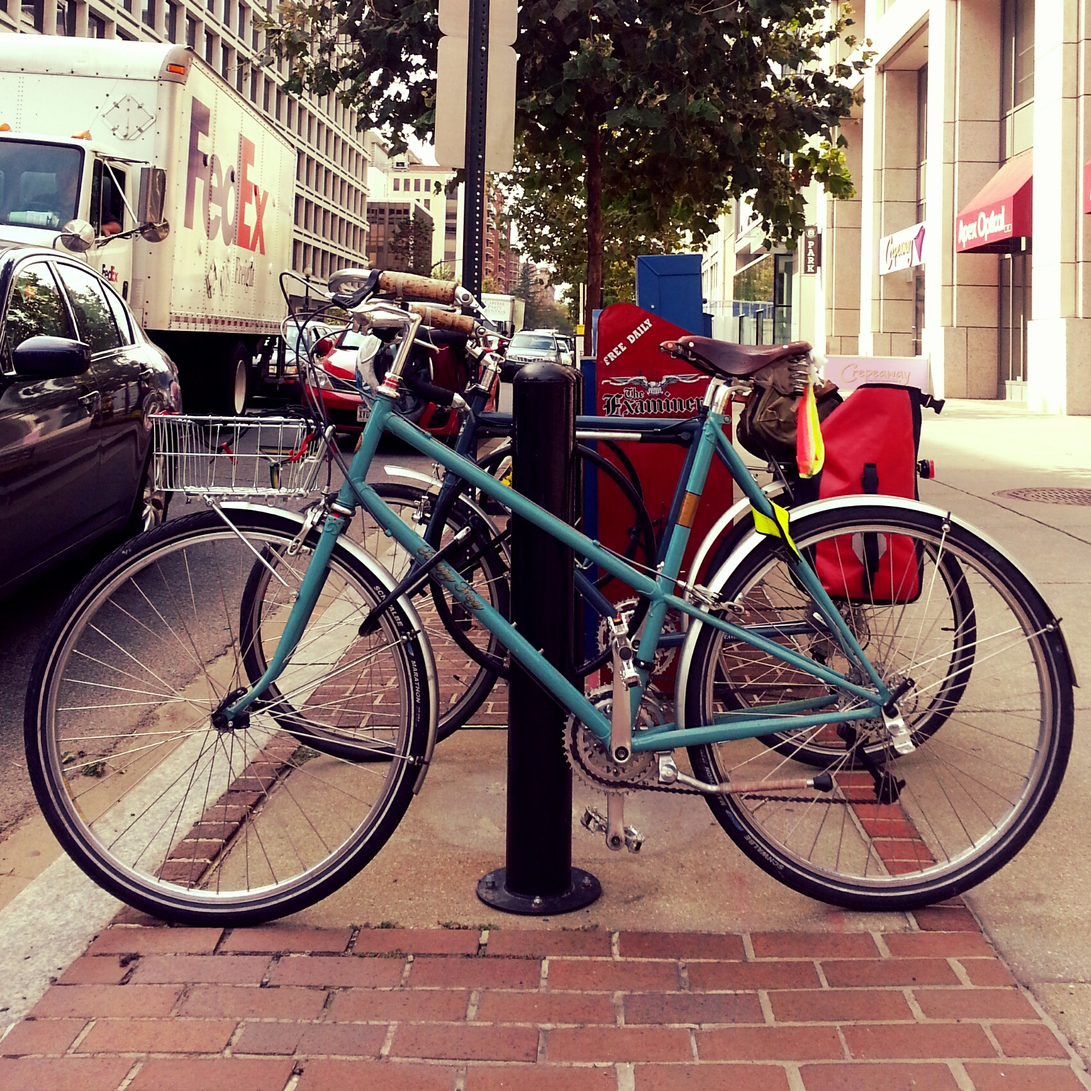Bicycle: (43, 270, 1081, 929)
